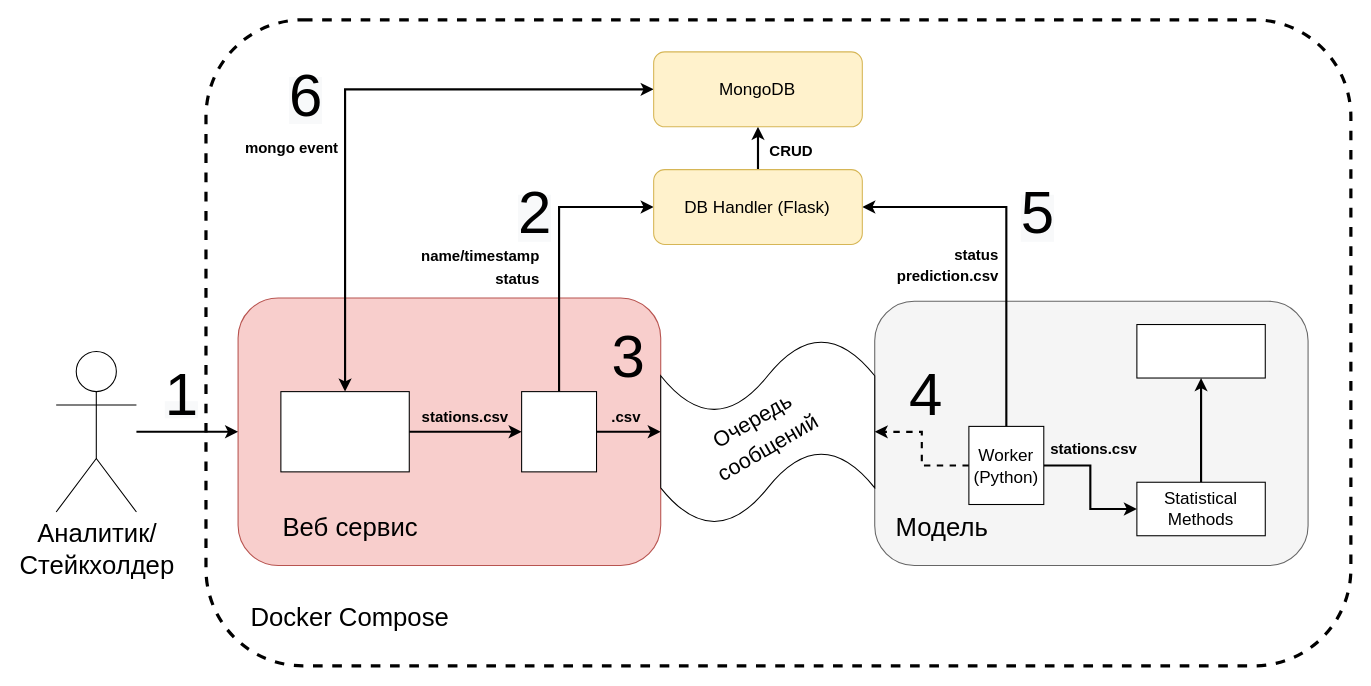
This 1371x686 diagram has some shape labels left out. Here are the shapes that lost their labels. From the top down, the centre of each, then its label:
point 1200,350: RNN
point 344,431: HTML/CSS/JS
point 559,431: Flask
